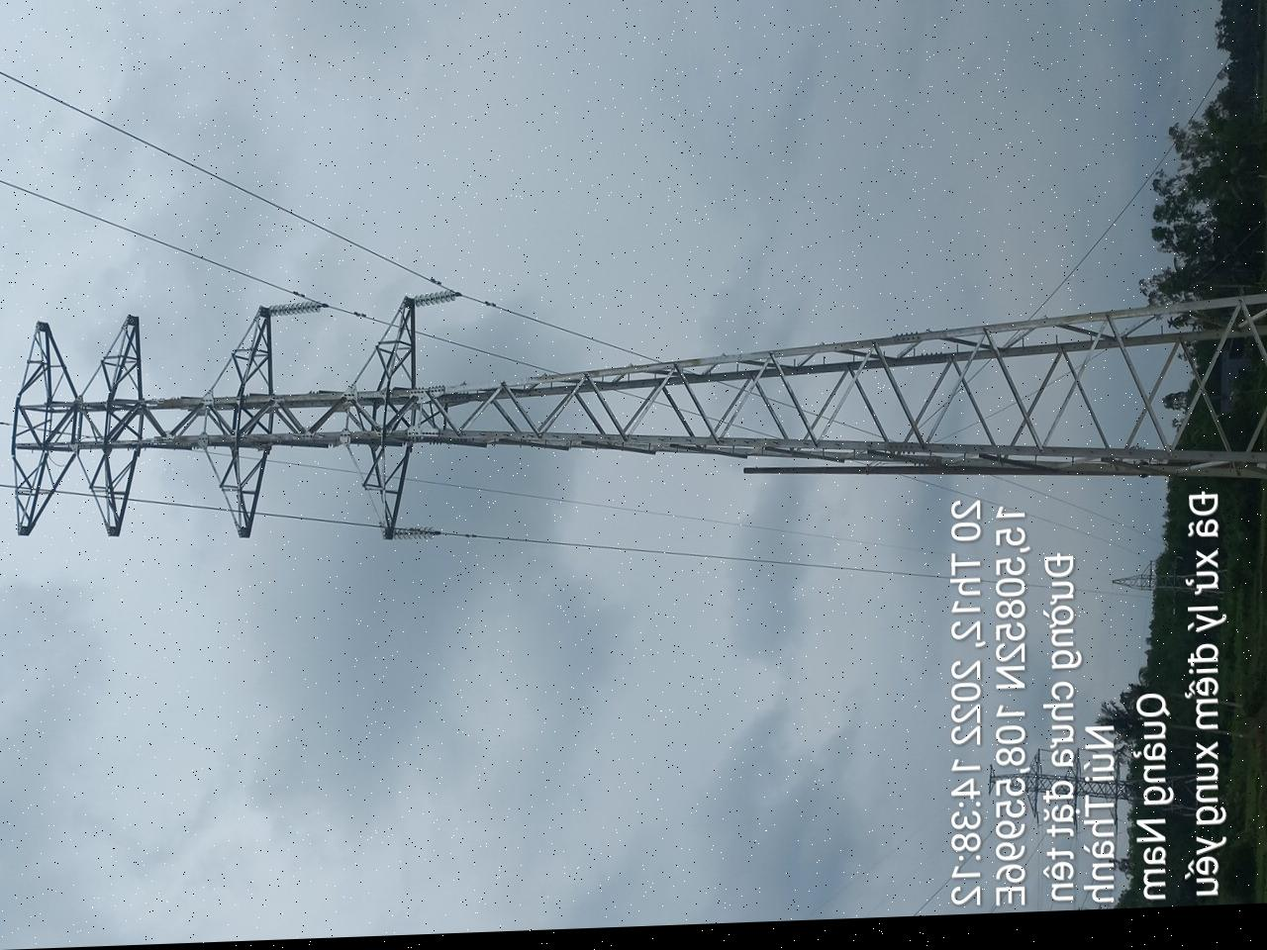tower: (285, 0, 582, 939)
